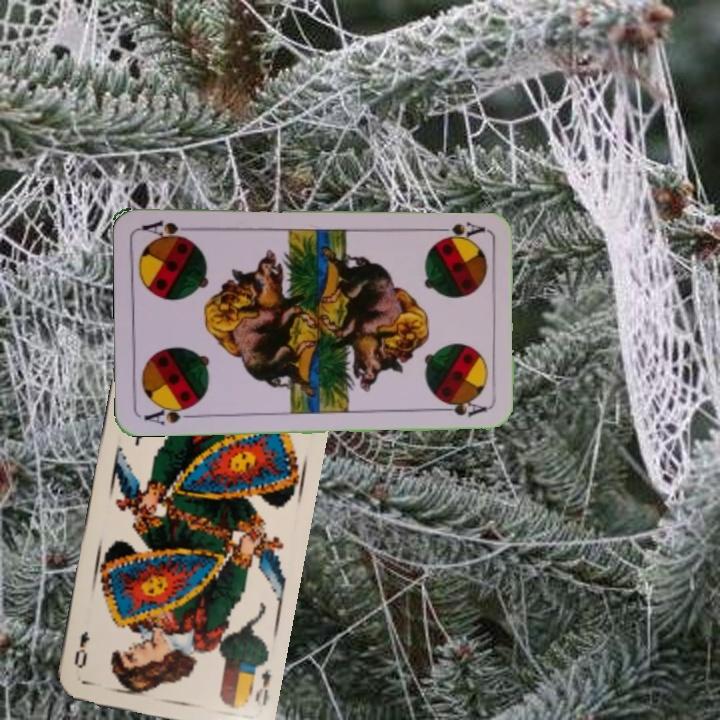EO: (250, 665, 274, 708)
SA: (140, 400, 198, 428), (428, 217, 487, 240)
